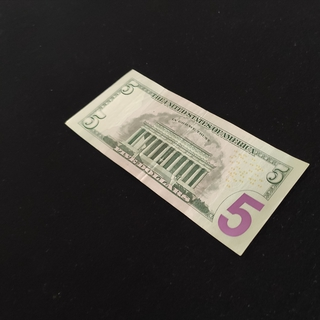5USDBack: (64, 67, 310, 256)
